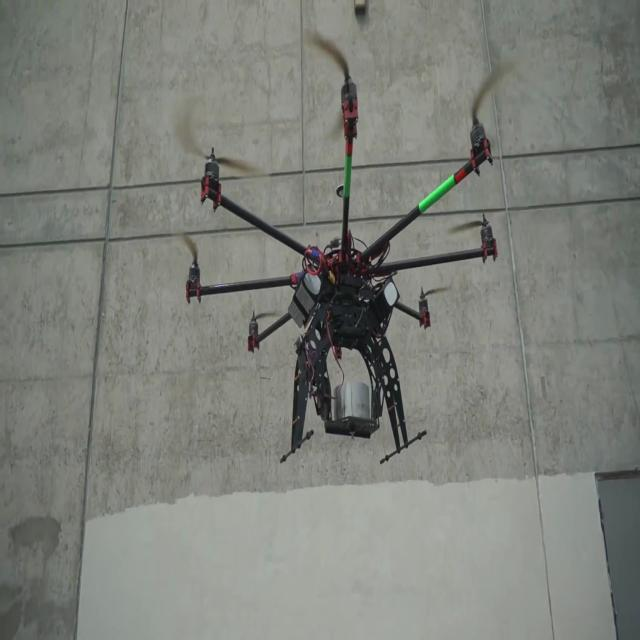drone: (175, 56, 522, 462)
